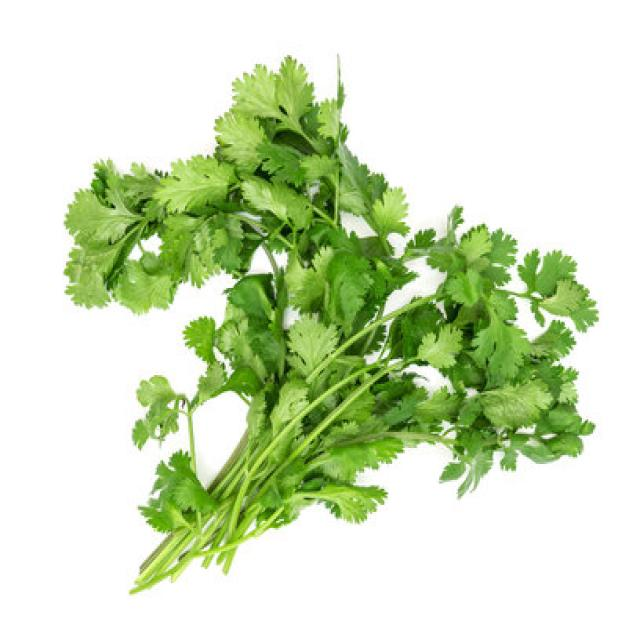Coriander Leaves: (61, 52, 599, 596)
